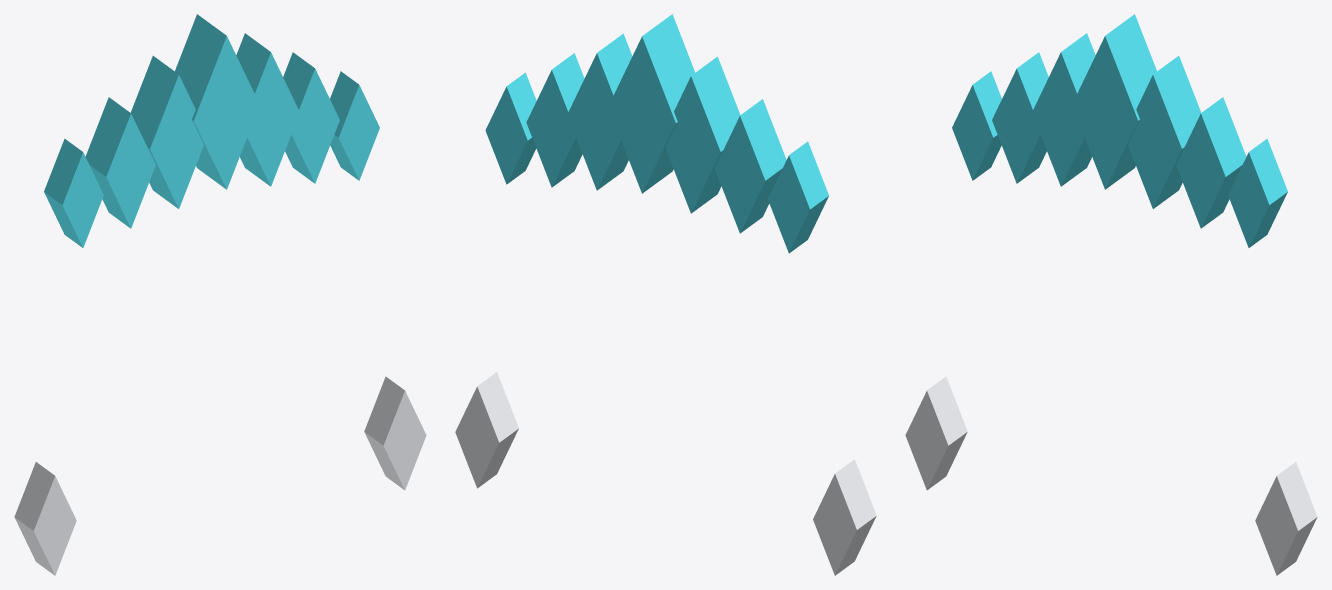
Rendered from ice-queen.glb.
3 renders of one model, left to right at view 1: azimuth 30°, elevation 25°; view 2: azimuth 150°, elevation 25°; view 3: azimuth 330°, elevation 25°, orthographic. The views are drawn at different scales.
Parts seen in each view (by area): view 1: ice spire (×7), ice earring (×2); view 2: ice spire (×7), ice earring (×2); view 3: ice spire (×7), ice earring (×2).
Boxes of the visible parts, x1,y1,x2,y2 form: ice spire (×7): [44, 14, 379, 247]; ice earring (×2): [14, 376, 426, 575]; ice spire (×7): [485, 14, 828, 253]; ice earring (×2): [455, 372, 876, 575]; ice spire (×7): [952, 14, 1287, 247]; ice earring (×2): [905, 376, 1317, 575].
Size of the model in its own units: 2.13 by 2.57 by 0.311.
